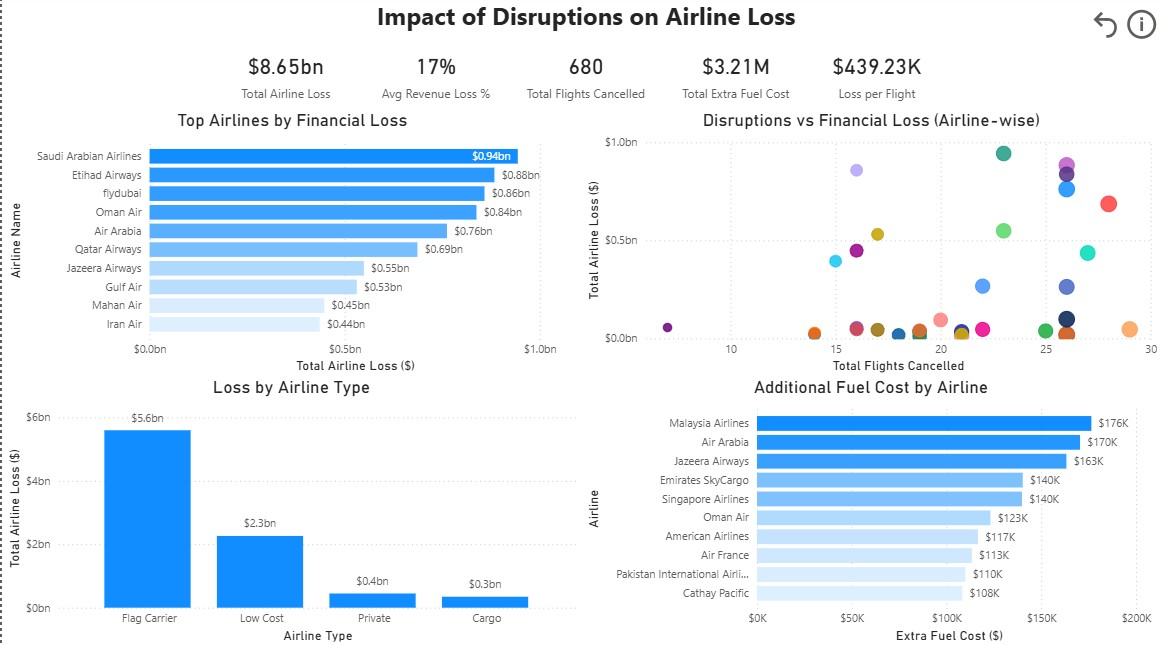

Layout of this report page (visuals, bound fields, positions):
{"tool":"powerbi","page":{"name":"Airline Impact & Financial Analysis","canvas":[1280,720],"ordinal":2},"visuals":[{"type":"textbox","box":[10,0,1270.1,47.3],"z":0},{"type":"card","fields":{"Values":["Fact_Airline_Losses.Total Airline Loss"]},"box":[230.6,47.4,165.8,79.8],"z":0,"group":"g1"},{"type":"group","id":"g1","title":"Group 1","box":[230.6,47.4,663.3,79.8],"z":1000,"group":"g2"},{"type":"card","fields":{"Values":["Fact_Airline_Losses.Avg Revenue Loss %"]},"box":[396.4,47.4,165.8,79.8],"z":1000,"group":"g1"},{"type":"barChart","title":"Top Airlines by Financial Loss","fields":{"Category":["Dim_Airline.airline_name"],"Y":["Fact_Airline_Losses.Total Airline Loss"]},"box":[1.2,127.2,638.3,295.5],"z":1000},{"type":"card","fields":{"Values":["Fact_Flight_Cancellations.Total Flights Cancelled"]},"box":[562.2,47.4,165.8,79.8],"z":2000,"group":"g1"},{"type":"scatterChart","title":"Disruptions vs Financial Loss (Airline-wise)","fields":{"X":["Fact_Flight_Cancellations.Total Flights Cancelled"],"Y":["Fact_Airline_Losses.Total Airline Loss"],"Series":["Dim_Airline.airline_name"],"Size":["Fact_Flight_Cancellations.Total Passengers Affected"]},"box":[639.6,127.2,640.8,295.5],"z":2000},{"type":"card","fields":{"Values":["Fact_Flight_Reroutes.Total Extra Fuel Cost"]},"box":[728.1,47.4,165.8,79.8],"z":3000,"group":"g1"},{"type":"card","fields":{"Values":["Fact_Airport_Disruptions.Loss per Flight"]},"box":[882.7,47.4,165.8,79.8],"z":3000,"group":"g2"},{"type":"columnChart","title":"Loss by Airline Type","fields":{"Category":["Fact_Airline_Losses.airline_type"],"Y":["Fact_Airline_Losses.Total Airline Loss"]},"box":[0,422.6,639.6,298],"z":3000},{"type":"barChart","title":"Additional Fuel Cost by Airline","fields":{"Category":["Fact_Flight_Reroutes.airline"],"Y":["Sum(Fact_Flight_Reroutes.extra_fuel_cost_usd)"]},"box":[639.6,422.6,640.8,298],"z":4000},{"type":"group","id":"g2","title":"Group 2","box":[230.6,47.4,817.9,79.8],"z":5000},{"type":"actionButton","box":[1237.6,8.7,42.4,49.9],"z":6000},{"type":"actionButton","box":[1199.4,12.5,38.6,41.1],"z":10000}]}

Visuals, with their boxes in screenshot pixels (x1, y1, x2, y2), scaled from the page's 1280x720 canvas onto the 1162x645 screenshot:
textbox: x1=9 y1=0 x2=1161 y2=42
card - Fact_Airline_Losses.Total Airline Loss: x1=209 y1=42 x2=360 y2=114
"Group 1" group: x1=209 y1=42 x2=811 y2=114
card - Fact_Airline_Losses.Avg Revenue Loss %: x1=360 y1=42 x2=510 y2=114
"Top Airlines by Financial Loss" barChart: x1=1 y1=114 x2=581 y2=379
card - Fact_Flight_Cancellations.Total Flights Cancelled: x1=510 y1=42 x2=661 y2=114
"Disruptions vs Financial Loss (Airline-wise)" scatterChart: x1=581 y1=114 x2=1161 y2=379
card - Fact_Flight_Reroutes.Total Extra Fuel Cost: x1=661 y1=42 x2=811 y2=114
card - Fact_Airport_Disruptions.Loss per Flight: x1=801 y1=42 x2=952 y2=114
"Loss by Airline Type" columnChart: x1=0 y1=379 x2=581 y2=644
"Additional Fuel Cost by Airline" barChart: x1=581 y1=379 x2=1161 y2=644
"Group 2" group: x1=209 y1=42 x2=952 y2=114
actionButton: x1=1124 y1=8 x2=1161 y2=52
actionButton: x1=1089 y1=11 x2=1124 y2=48
